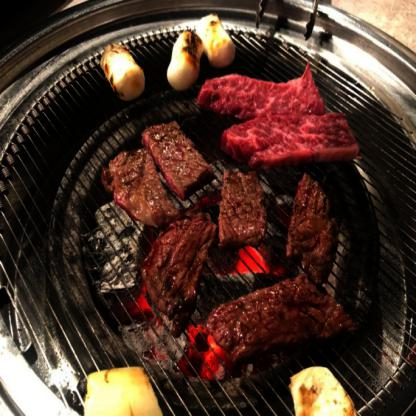Carne: (205, 279, 362, 357), (141, 203, 222, 331), (101, 148, 172, 232), (138, 117, 213, 196), (284, 172, 335, 278), (216, 163, 268, 253)
